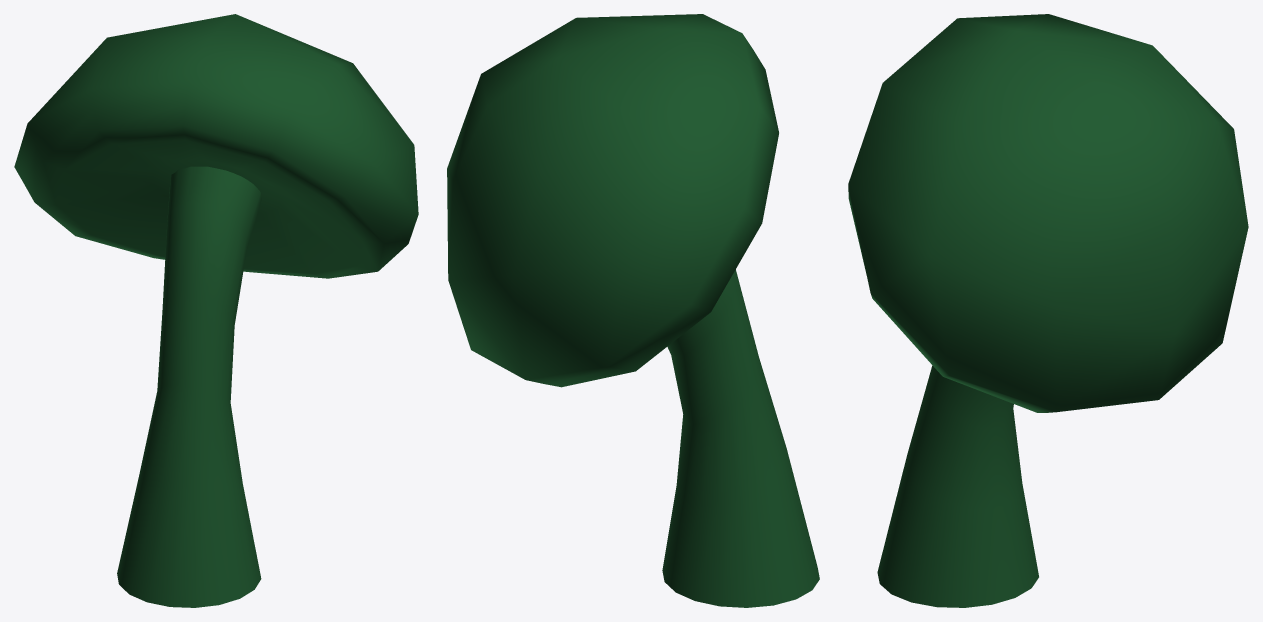
File: Mushroom04.fbx
The picture shows the model from 3 angles, left to right: view 1: azimuth 30°, elevation 25°; view 2: azimuth 150°, elevation 25°; view 3: azimuth 270°, elevation 25°; orthographic projection. The views are drawn at different scales.
Visible parts, largest first — view 1: Mushroom_3; view 2: Mushroom_3; view 3: Mushroom_3.
Boxes of the visible parts, <box> form: Mushroom_3: <box>14,14,418,607</box>; Mushroom_3: <box>447,14,819,607</box>; Mushroom_3: <box>848,14,1248,607</box>.
Bounding box in the file's own units: 14.06 × 22.16 × 14.1.
